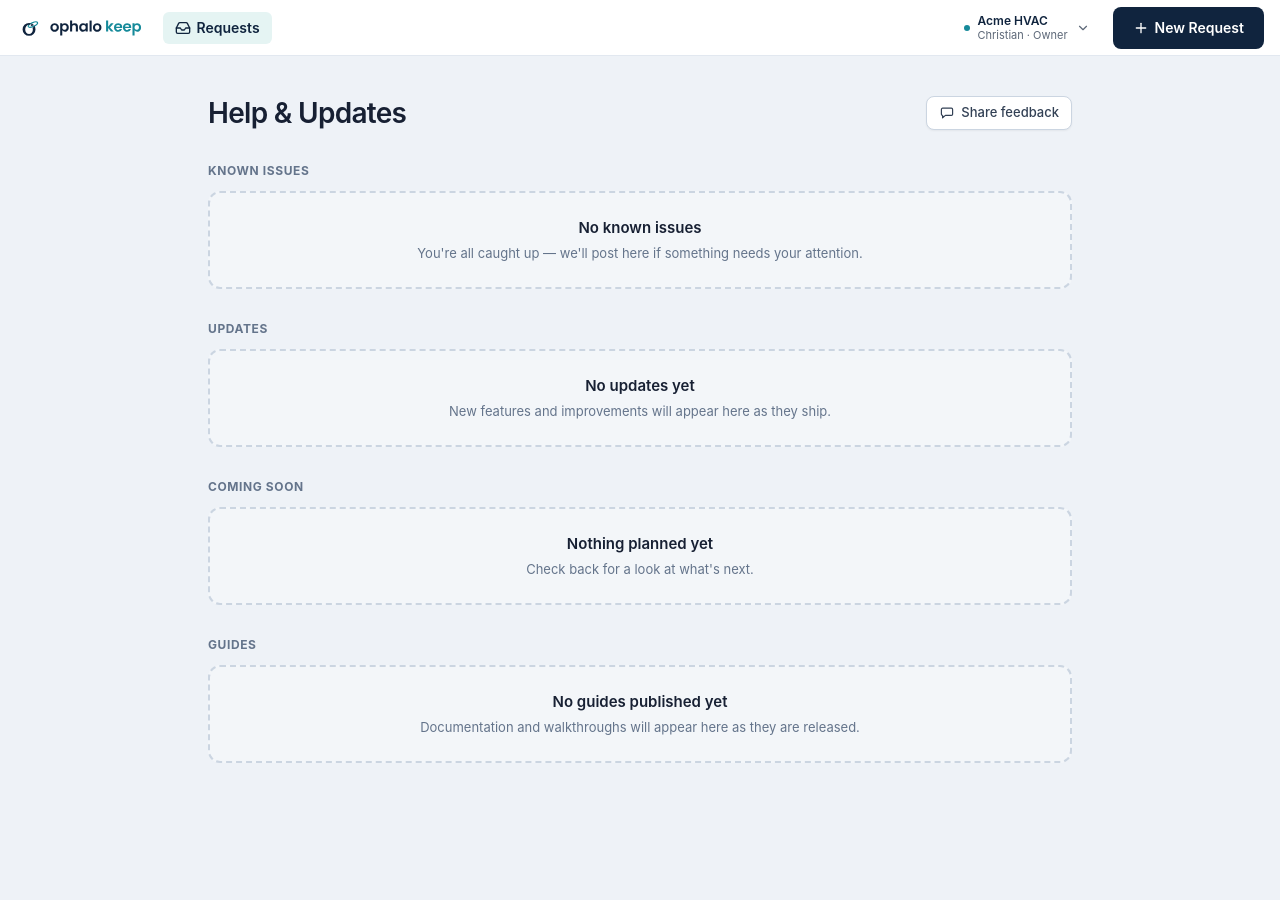
Scenario: App — in-product feedback entry point › opens the feedback dialog from the account menu 'Send feedback' row
Step 1. Click the button with aria-label "account menu" → {"x": 1026, "y": 28}, box [952,6,1100,49]
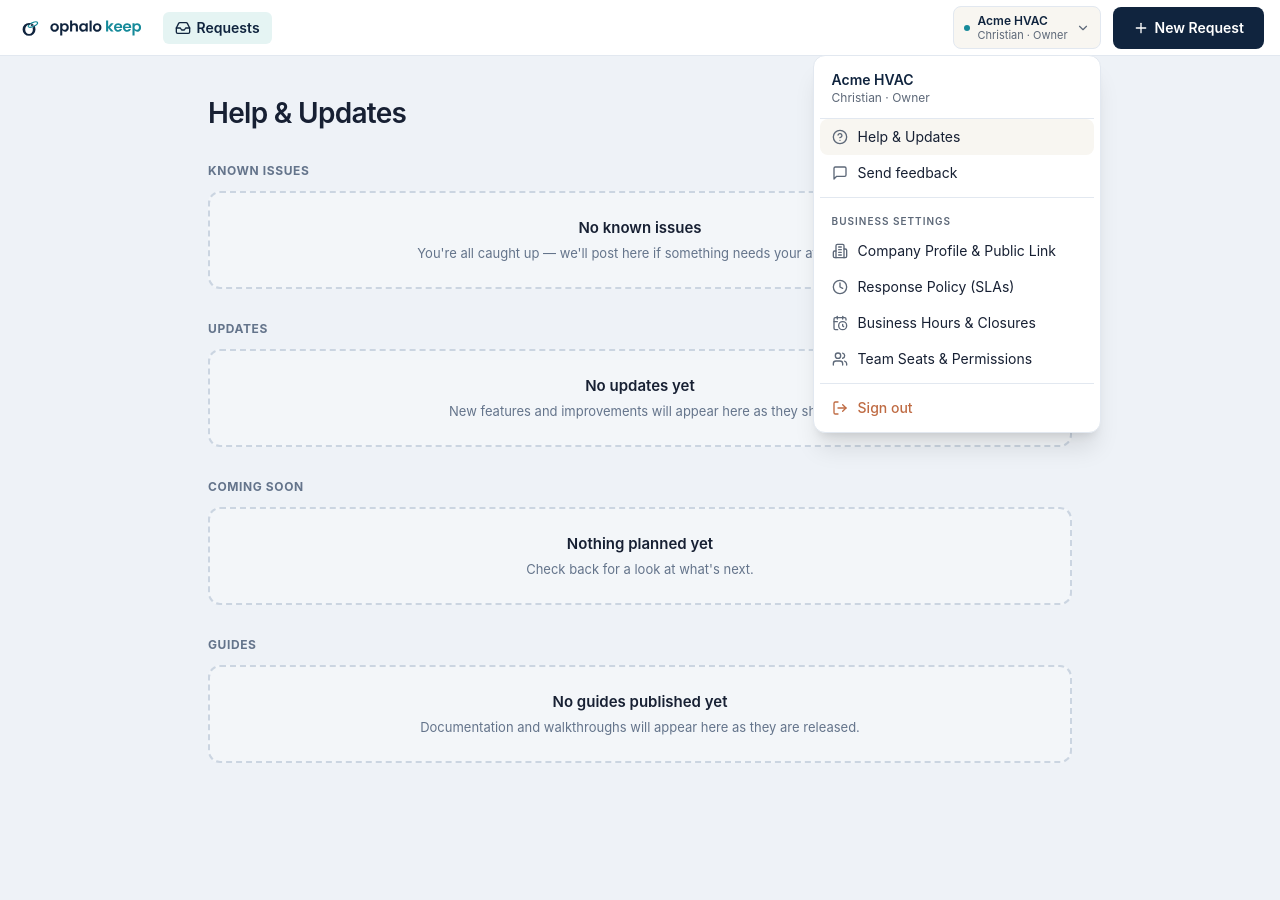
Step 2. Click the menu item "Send feedback" → {"x": 957, "y": 173}, box [820,155,1094,191]
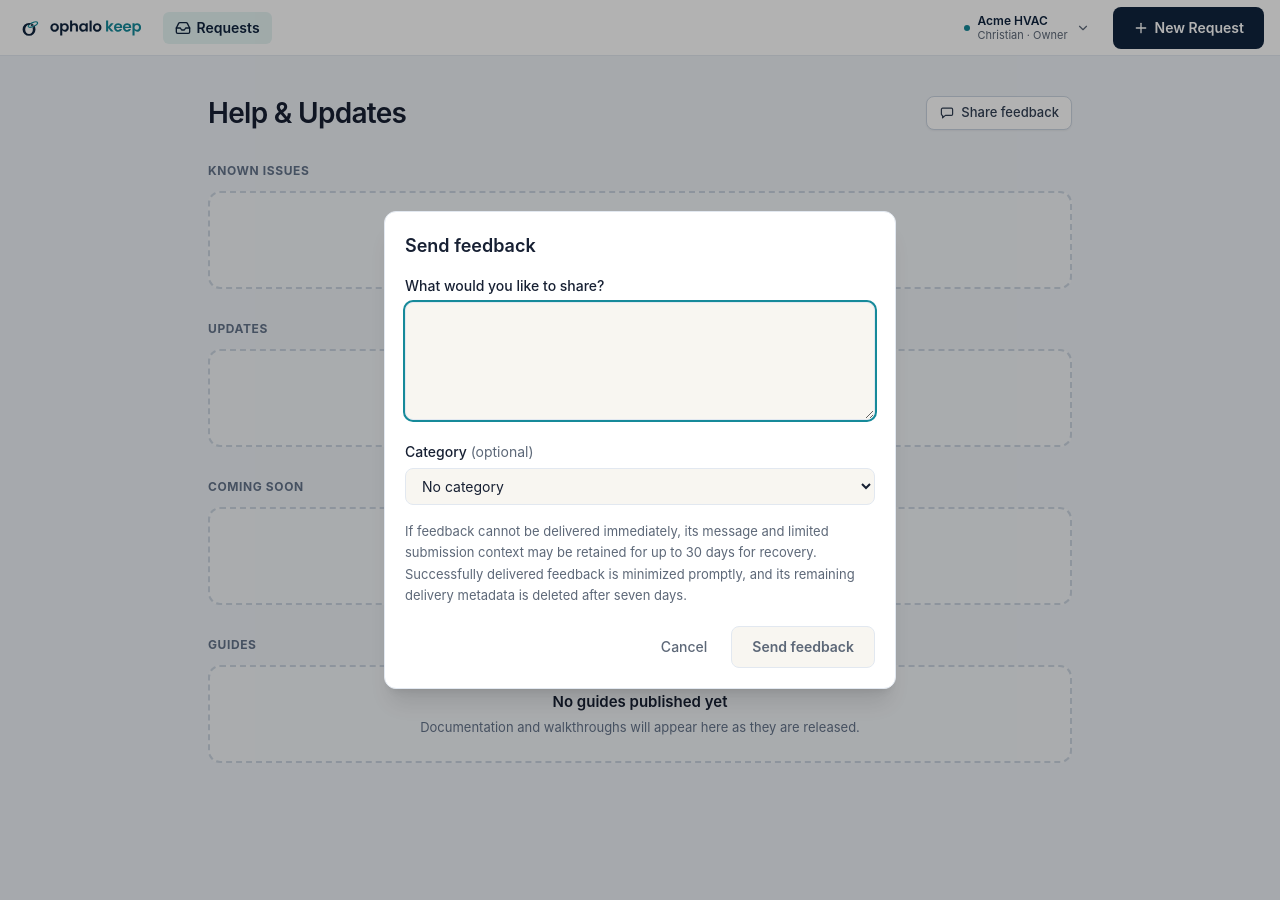
Expected: the dialog shows "What would you like to share?", [405,277,604,294]
